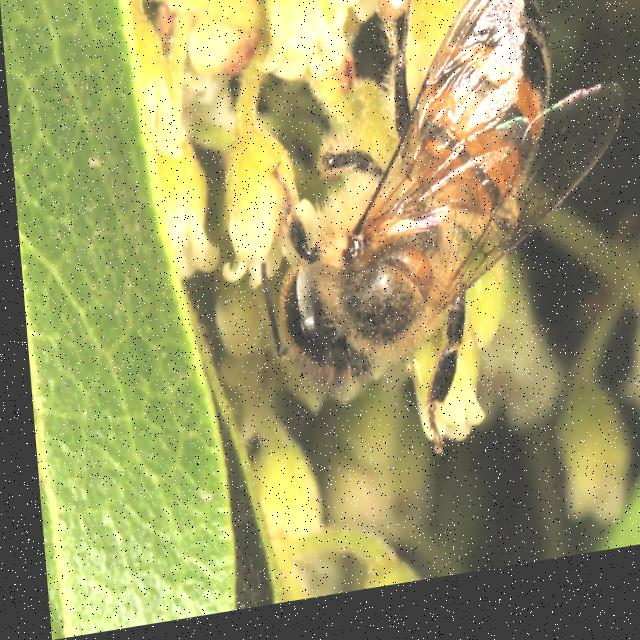Apis-mellifera-scutellata: (232, 0, 640, 506)
